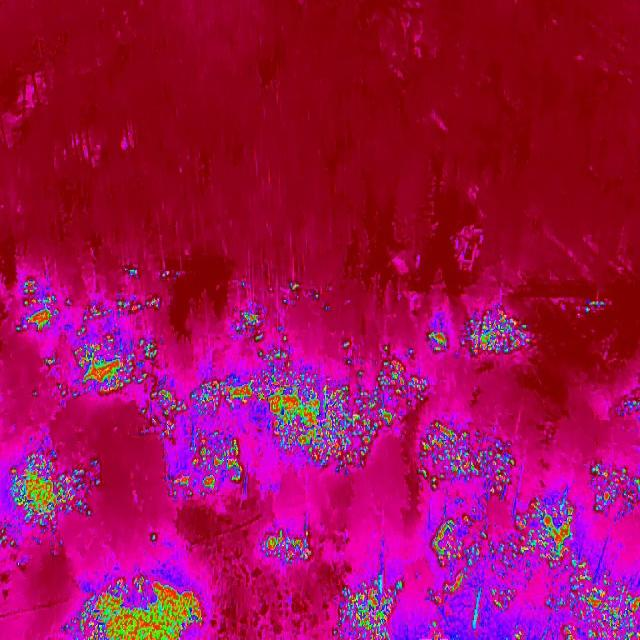fire: (154, 352, 429, 500), (420, 494, 590, 637), (0, 449, 103, 549), (62, 572, 210, 638), (412, 418, 524, 500), (50, 330, 161, 404), (560, 564, 640, 640), (334, 571, 408, 638), (460, 306, 536, 360), (75, 292, 169, 330), (586, 456, 640, 522), (12, 276, 61, 338), (260, 525, 318, 573), (234, 302, 272, 346), (279, 278, 325, 308), (578, 291, 612, 320), (425, 326, 450, 356), (156, 265, 185, 286), (621, 394, 640, 414), (128, 266, 142, 284)
